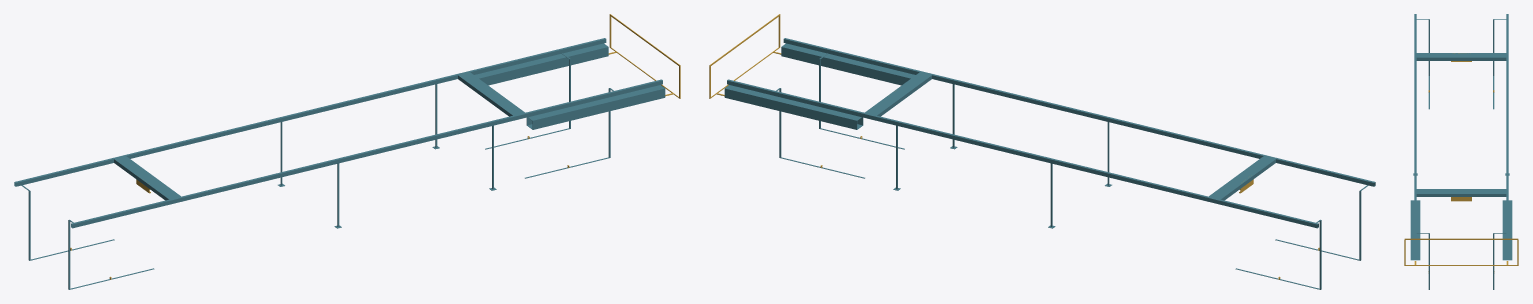
File: long-upper-handling-bridge.glb
3 views of the same model, side by side, from view 1: azimuth 30°, elevation 25°; view 2: azimuth 150°, elevation 25°; view 3: azimuth 270°, elevation 25° (orthographic). The views are drawn at different scales.
Visible parts, largest first — view 1: rail_1_sideR, rail_-1_sideR, pocket_sideR_1, rail_-1_top, rail_1_top, pocket_sideR_-1, cross_-1_top, pocket_roof_1, cross_1_top, pocket_roof_-1; view 2: rail_-1_sideL, rail_1_sideL, pocket_sideL_-1, rail_-1_top, rail_1_top, pocket_sideL_1, cross_1_top, pocket_roof_-1, cross_-1_top, pocket_roof_1; view 3: rail_-1_top, rail_1_top, pocket_roof_-1, pocket_roof_1, cross_-1_top, cross_1_top, cross_-1_sideR, cross_1_sideR, heel_gate_bar, heel_gate_base, pin_post_R_rear_R, pin_post_R_front_R (+3 smaller).
Part boxes in pixels (x1,y1,x2,y2): rail_1_sideR: (72,80,662,228); rail_-1_sideR: (15,39,606,186); pocket_sideR_1: (532,89,665,129); rail_-1_top: (14,38,605,182); rail_1_top: (71,79,662,224); pocket_sideR_-1: (479,47,608,85); cross_-1_top: (113,156,182,200); pocket_roof_1: (528,85,664,120); cross_1_top: (457,72,525,116); pocket_roof_-1: (474,43,608,78); rail_-1_sideL: (727,80,1317,228); rail_1_sideL: (783,39,1374,186); pocket_sideL_-1: (724,89,857,129); rail_-1_top: (727,79,1318,224); rail_1_top: (784,38,1375,182); pocket_sideL_1: (781,47,910,85); cross_1_top: (864,71,932,116); pocket_roof_-1: (725,85,861,120); cross_-1_top: (1209,155,1276,200); pocket_roof_1: (781,43,915,78); rail_-1_top: (1506,14,1508,247); rail_1_top: (1414,14,1416,247); pocket_roof_-1: (1502,200,1512,252); pocket_roof_1: (1410,200,1420,252); cross_-1_top: (1414,53,1507,57); cross_1_top: (1415,189,1508,193); cross_-1_sideR: (1416,57,1506,60); cross_1_sideR: (1416,194,1506,196); heel_gate_bar: (1404,238,1518,239); heel_gate_base: (1405,265,1517,265); pin_post_R_rear_R: (1493,233,1494,289); pin_post_R_front_R: (1428,233,1429,289).
Size of the model in its own units: 4.9 by 0.7 by 0.992.
